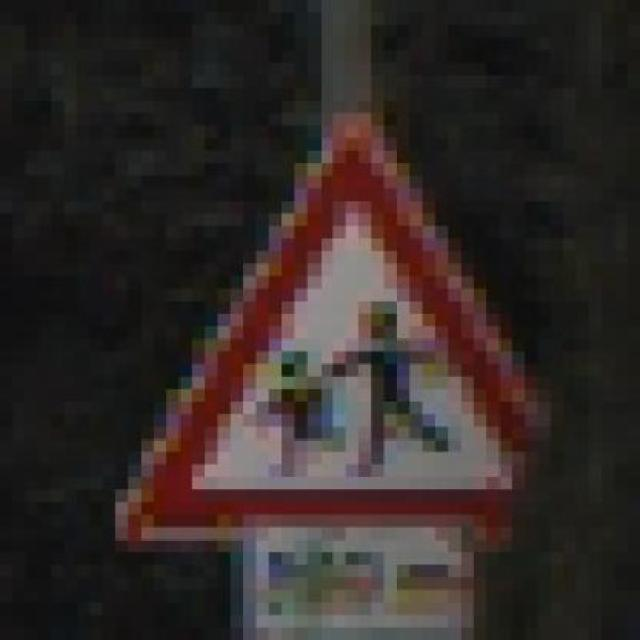Beware of children: (90, 112, 588, 565)
